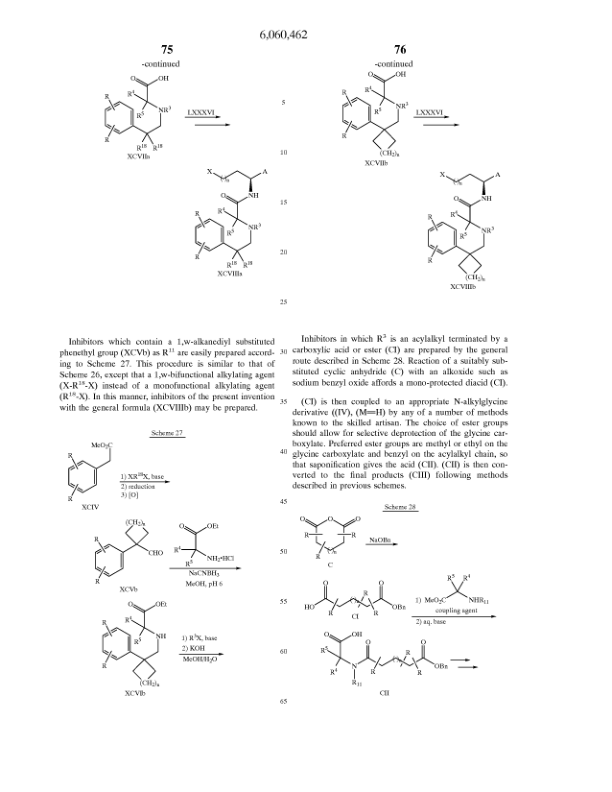compound-structure: (416, 163, 507, 284), (298, 625, 446, 696), (190, 159, 267, 283), (335, 68, 405, 173), (96, 592, 165, 689), (97, 73, 166, 163), (85, 520, 164, 591), (304, 577, 407, 618), (62, 433, 111, 511), (298, 507, 360, 564), (171, 516, 234, 568), (425, 570, 490, 607)
reaction: (41, 427, 253, 720), (80, 51, 275, 314), (290, 493, 513, 719), (325, 55, 518, 313)
reaction-arrow: (163, 512, 245, 592), (413, 571, 510, 624), (174, 94, 234, 137), (177, 628, 225, 674), (116, 468, 173, 503), (413, 103, 460, 133), (448, 650, 479, 675), (365, 535, 402, 549)
